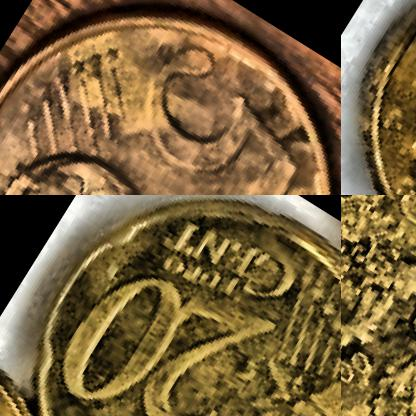coin: (0, 195, 340, 415), (0, 0, 340, 194), (341, 195, 415, 415), (341, 0, 415, 194)
